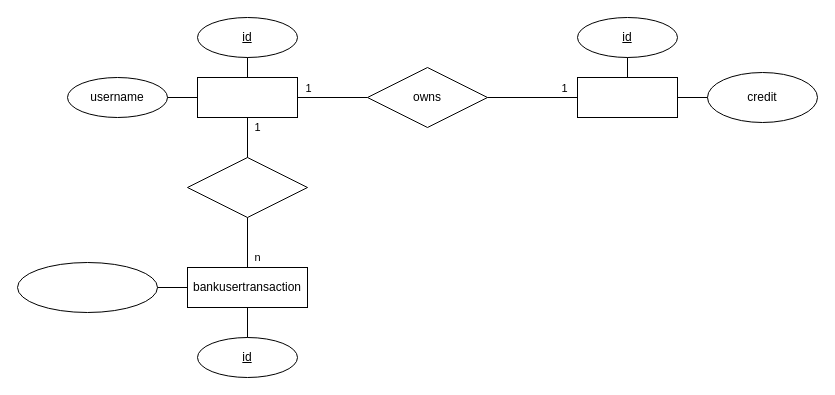
Image size: 835x395. Some labels were removed from this diagram. Each missing label, with the box of its shape:
bankcredit: (576, 76, 678, 118)
bankuser: (196, 76, 298, 118)
carries out: (186, 156, 308, 218)
orderid transactiontype inserttime: (16, 262, 158, 312)
